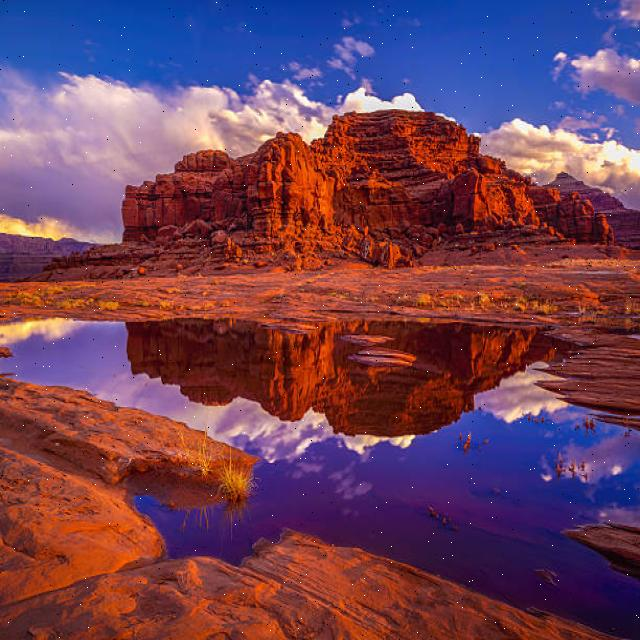Sedimentary: (1, 93, 640, 327)
